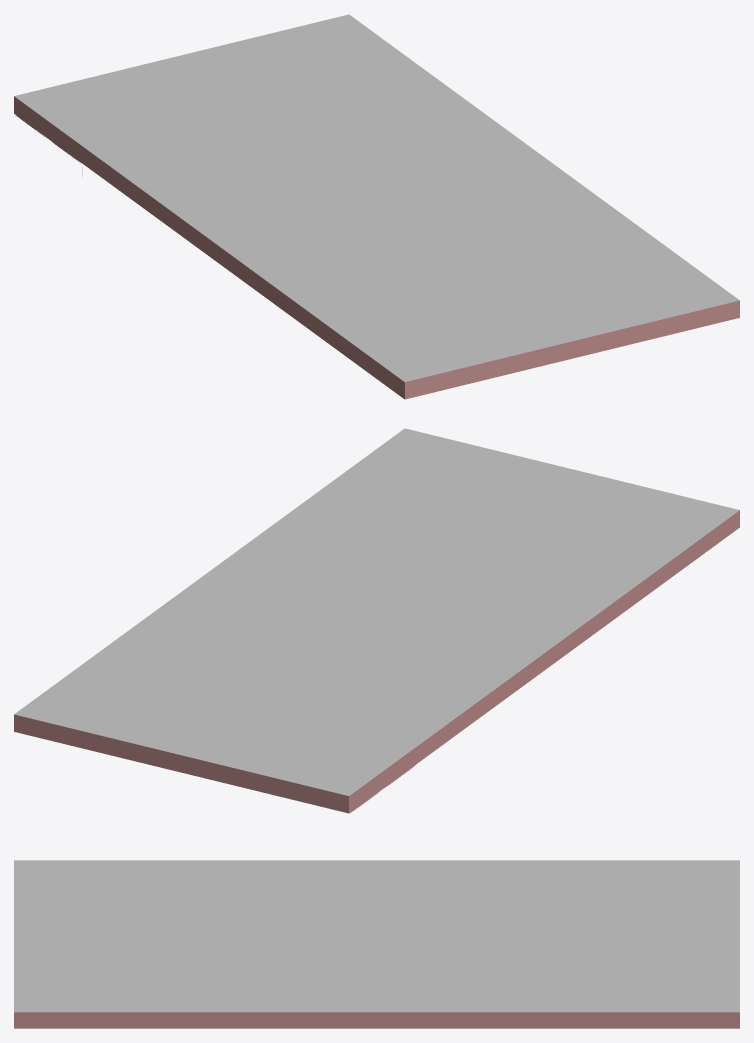
File: 21a96bfe-1d2f-4913-a727-8c72a07cf272-003cfd70.glb
3 renders of one model, top to bottom at view 1: azimuth 30°, elevation 25°; view 2: azimuth 150°, elevation 25°; view 3: azimuth 270°, elevation 25°, orthographic. The views are drawn at different scales.
Visible parts, largest first — view 1: sopnet4; view 2: sopnet4; view 3: sopnet4.
Boxes of the visible parts, box(x1,y1,x2,y2) form: sopnet4: box(14, 14, 739, 399); sopnet4: box(14, 428, 739, 813); sopnet4: box(14, 860, 739, 1028).
Size of the model in its own units: 3.66 by 0.37 by 7.39.
